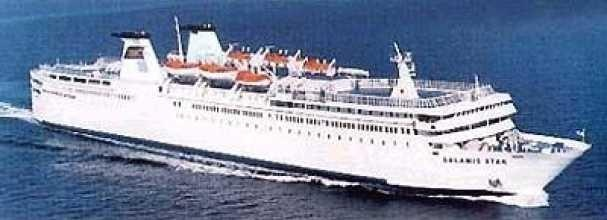youlun: (13, 11, 592, 199)
